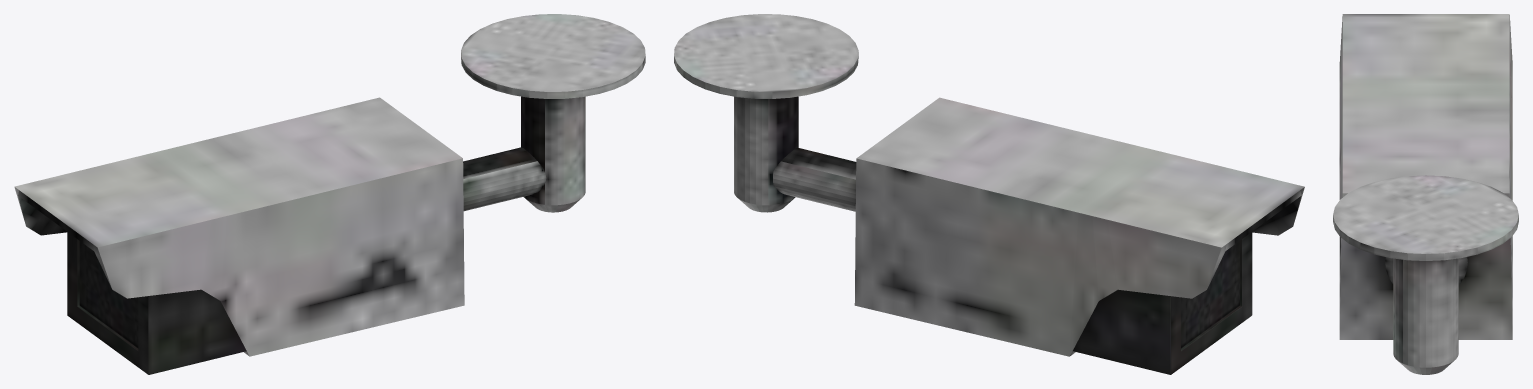
Rendered from CCTV.fbx.
The picture shows the model from 3 angles, left to right: view 1: azimuth 30°, elevation 25°; view 2: azimuth 150°, elevation 25°; view 3: azimuth 270°, elevation 25°; orthographic projection.
Visible parts, largest first — view 1: CCTV; view 2: CCTV; view 3: CCTV.
Boxes of the visible parts, <box> form: CCTV: <box>14,14,645,374</box>; CCTV: <box>674,14,1304,374</box>; CCTV: <box>1333,14,1518,374</box>.
Bounding box in the file's own units: 85.23 × 26.65 × 23.66.
